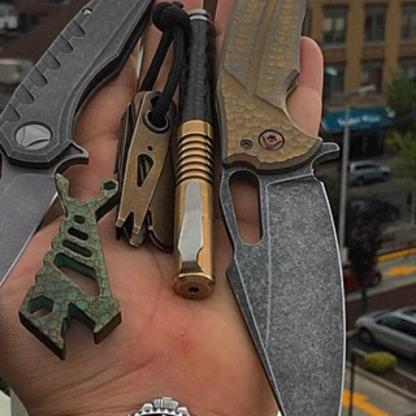knife: (0, 0, 169, 414), (216, 0, 344, 415)
